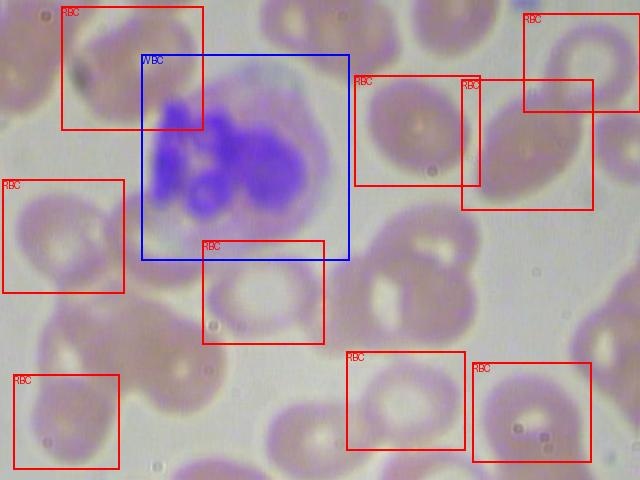RBC: (61, 6, 203, 130), (461, 79, 593, 210), (354, 75, 480, 186), (2, 179, 124, 293), (202, 240, 324, 344), (472, 362, 591, 462), (346, 351, 465, 450), (523, 13, 640, 112), (13, 374, 119, 469)
WBC: (141, 54, 349, 260)
